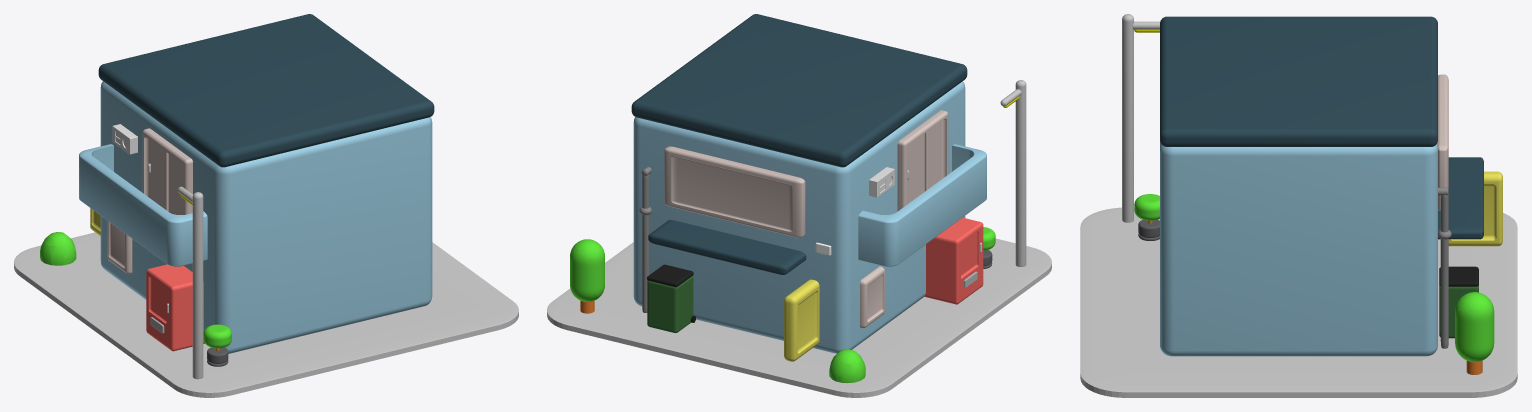
Rendered from house.glb.
3 renders of one model, left to right at view 1: azimuth 30°, elevation 25°; view 2: azimuth 150°, elevation 25°; view 3: azimuth 270°, elevation 25°, orthographic. The views are drawn at different scales.
Parts seen in each view (by area): view 1: House, Plane.001, Curb, Cube, VendingMachine, BalconyDoor, Pole, Mball.001, Billboard.001, TreeBush, AirCondition; view 2: House, Plane.001, Curb, Window, Cube, Plane, VendingMachine, BalconyDoor, Billboard, Pole, BinBody, Tree.001 (+5 smaller); view 3: House, Plane.001, Curb, Plane, Pole, Tree.001, Billboard, Pipe1, Window, BinBody, BinTop, TreeBush.
Part boxes in pixels (bbox=[...]): House: bbox=[100, 81, 432, 353]; Plane.001: bbox=[98, 14, 434, 167]; Curb: bbox=[14, 232, 518, 397]; Cube: bbox=[79, 144, 207, 266]; VendingMachine: bbox=[146, 264, 204, 351]; BalconyDoor: bbox=[142, 128, 192, 214]; Pole: bbox=[192, 192, 203, 379]; Mball.001: bbox=[40, 232, 76, 265]; Billboard.001: bbox=[107, 220, 132, 274]; TreeBush: bbox=[203, 324, 231, 348]; AirCondition: bbox=[112, 124, 137, 154]; House: bbox=[633, 81, 965, 353]; Plane.001: bbox=[631, 14, 967, 167]; Curb: bbox=[547, 238, 1051, 397]; Window: bbox=[664, 146, 805, 237]; Cube: bbox=[858, 144, 986, 266]; Plane: bbox=[648, 220, 806, 274]; VendingMachine: bbox=[924, 217, 983, 304]; BalconyDoor: bbox=[897, 110, 948, 211]; Billboard: bbox=[784, 279, 819, 361]; Pole: bbox=[1015, 80, 1026, 266]; BinBody: bbox=[647, 276, 693, 332]; Tree.001: bbox=[570, 239, 604, 301]; House: bbox=[1160, 141, 1437, 356]; Plane.001: bbox=[1160, 16, 1437, 146]; Curb: bbox=[1080, 207, 1517, 397]; Plane: bbox=[1438, 157, 1483, 239]; Pole: bbox=[1122, 14, 1133, 222]; Tree.001: bbox=[1455, 292, 1494, 362]; Billboard: bbox=[1448, 171, 1502, 246]; Pipe1: bbox=[1440, 194, 1448, 348]; Window: bbox=[1438, 74, 1448, 210]; BinBody: bbox=[1439, 285, 1478, 338]; BinTop: bbox=[1439, 266, 1478, 286]; TreeBush: bbox=[1134, 194, 1159, 220].
Bounding box in the file's own units: 11 × 6.52 × 11.
